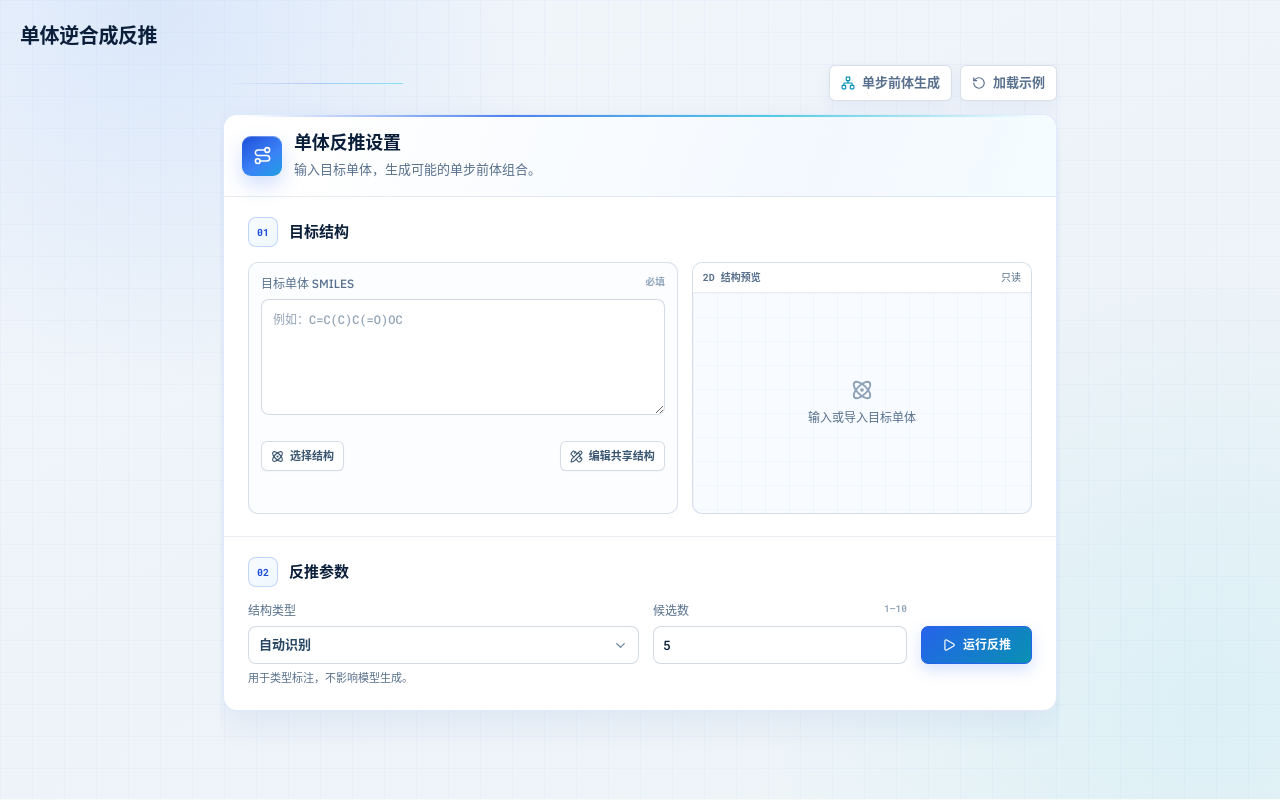
Scenario: 独立单体逆合成模块 › 候选数 1 保持 API 参数及 AbortSignal
Click the button "加载示例" at (1008, 83), box [960,65,1057,101]
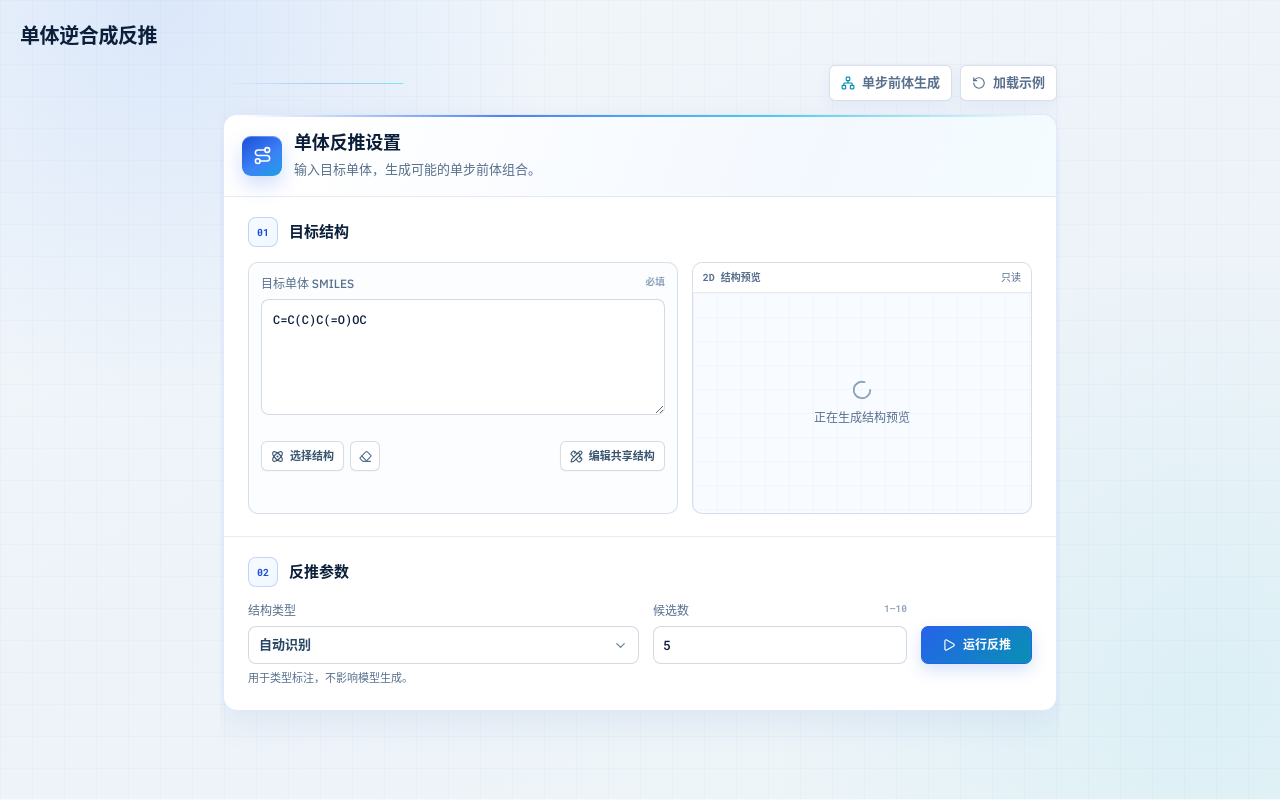
Replace the text in the number field named "反推候选数" with "1" at (780, 645), box [653,626,907,664]
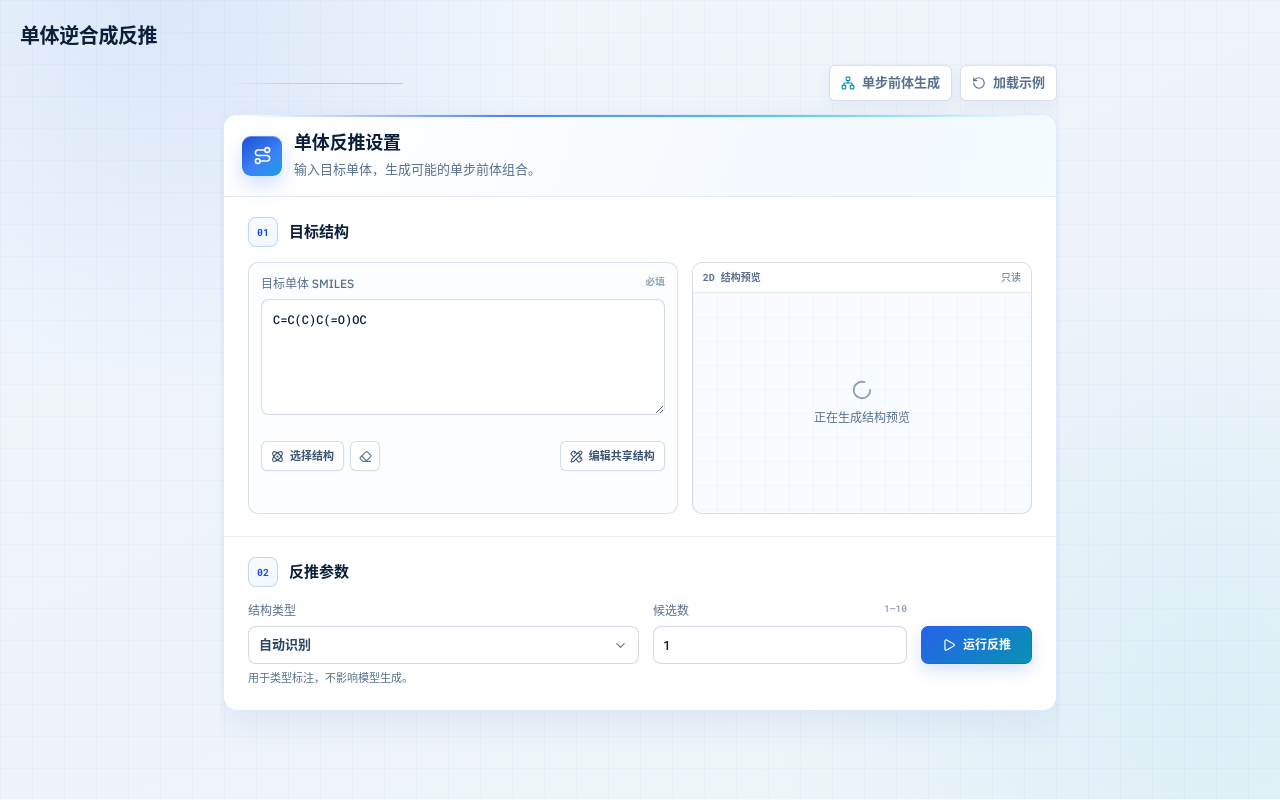
Click the button "运行反推" at (976, 645), box [921,626,1032,664]
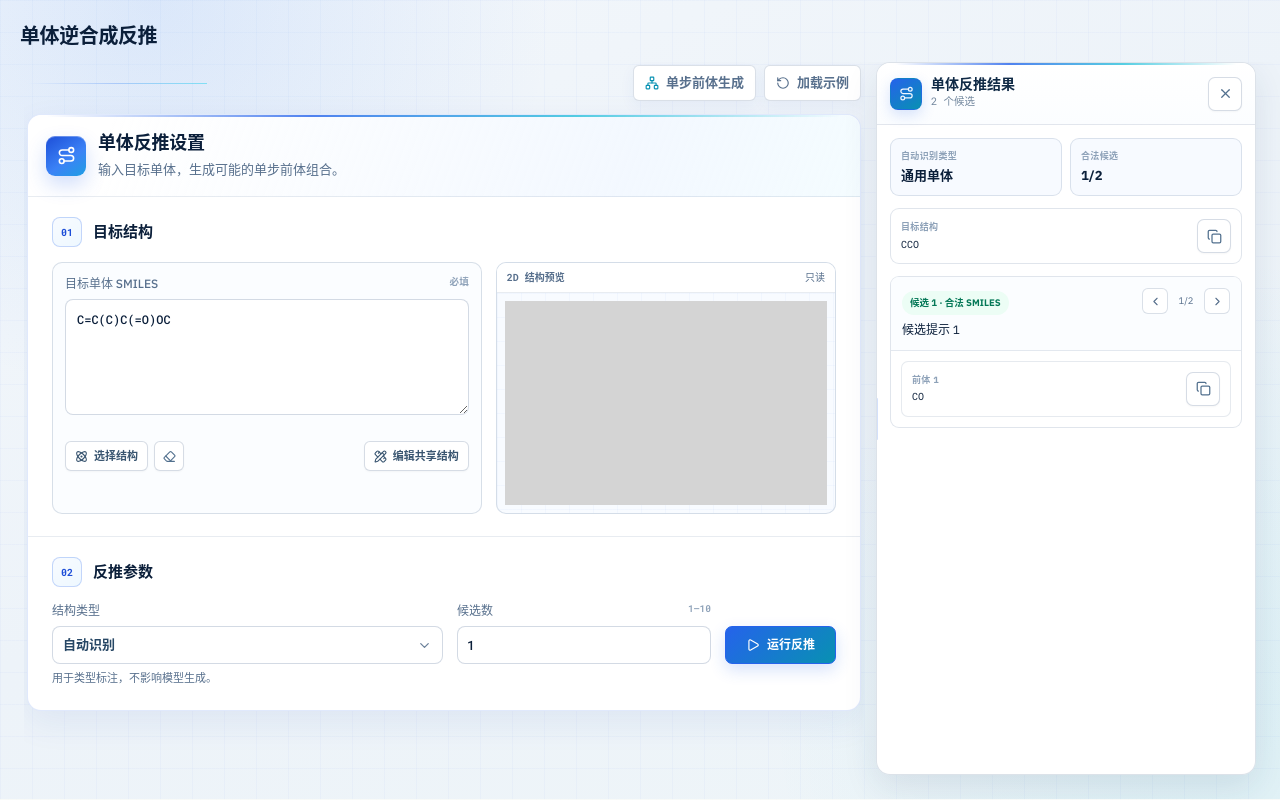
Check: the heading "候选提示 1" is shown, box [902,322,960,337]
